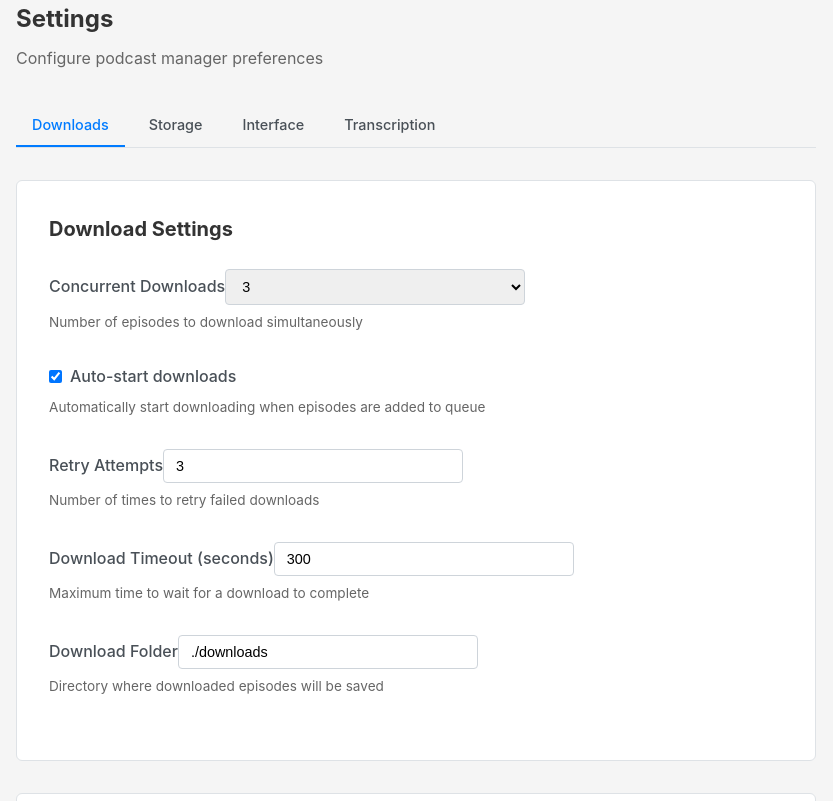
Test case: SettingsPanel › displays storage settings
The width and height of the screenshot is (833, 801).
Click the button "Storage" at (176, 126), box [133,104,218,147]
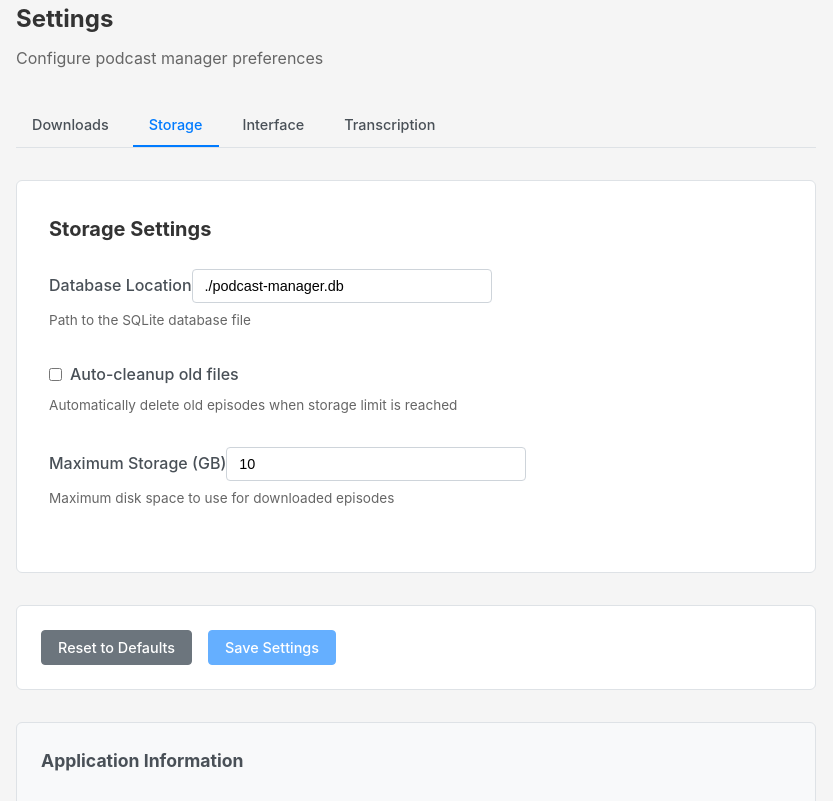
Check: the text "Database Location" is shown, box [49,269,492,303]
Check: the field showing "./podcast-manager.db" is shown, box [192,269,492,303]
Check: the text "Auto-cleanup old files" is shown, box [49,364,239,384]
